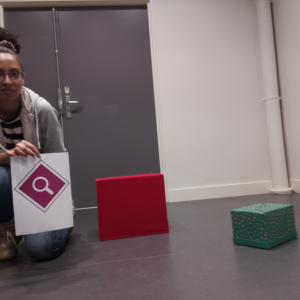medium: (95, 172, 171, 242)
small: (229, 200, 300, 253)
